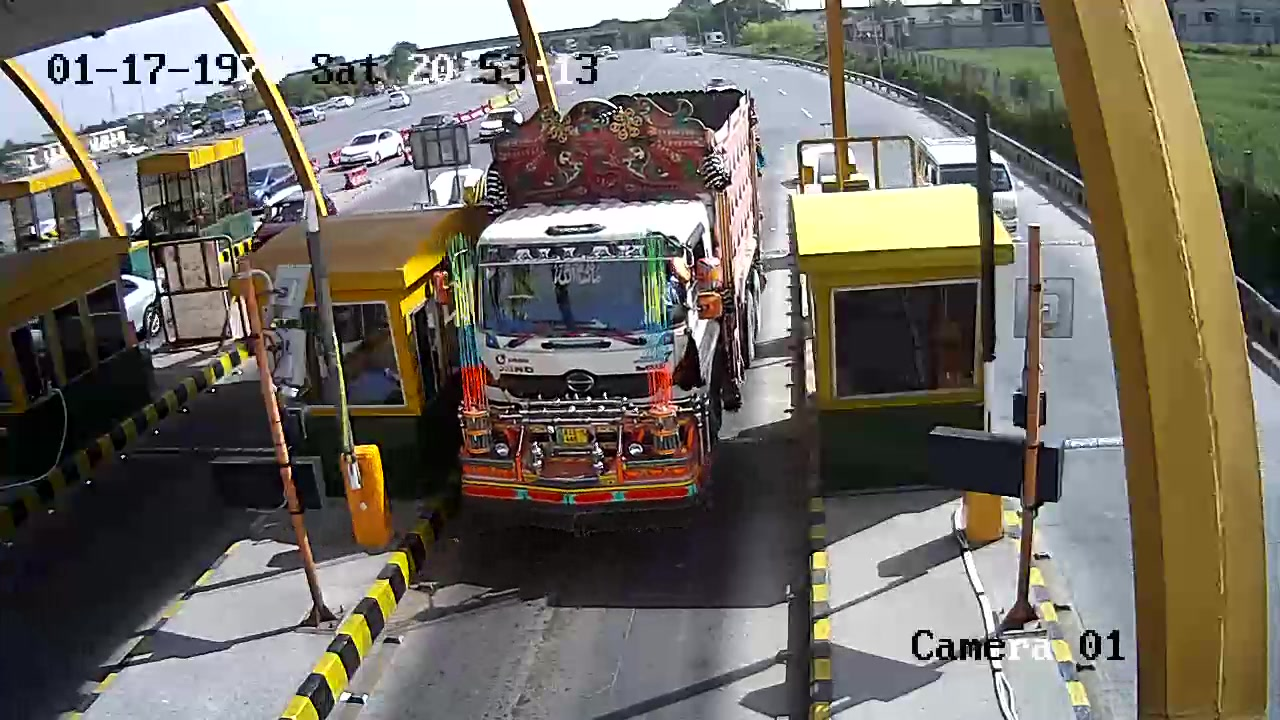F5: (452, 84, 761, 513)
